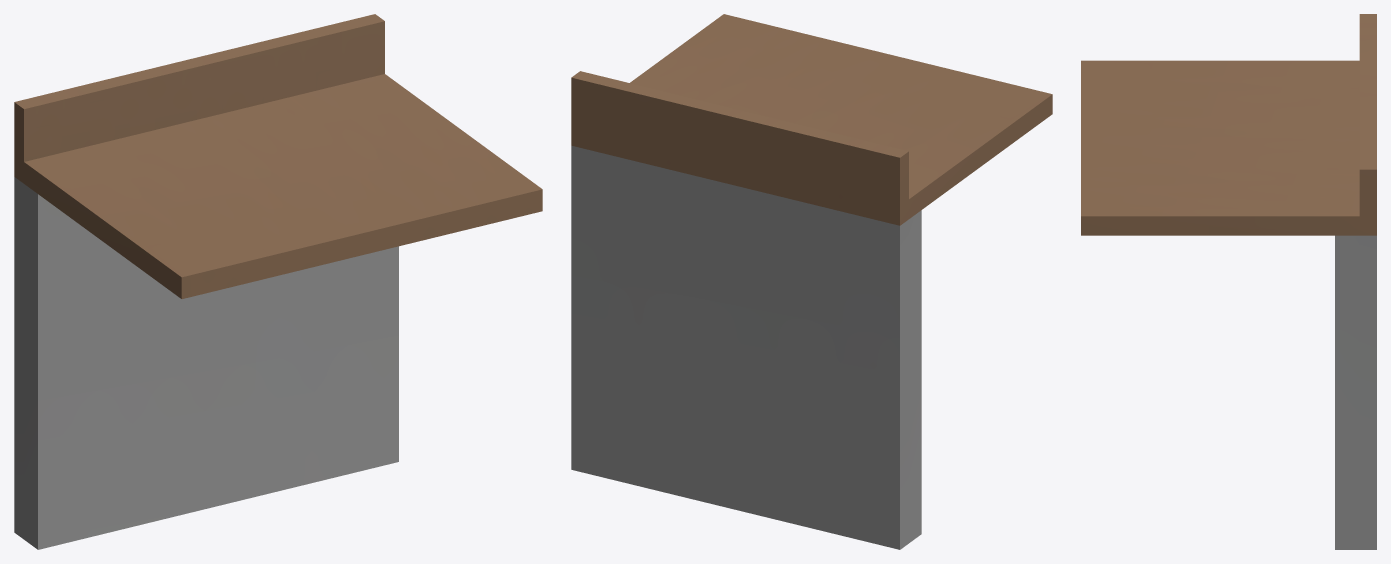
File: KitchenBlock_C.fbx
3 views of the same model, side by side, from view 1: azimuth 30°, elevation 25°; view 2: azimuth 150°, elevation 25°; view 3: azimuth 270°, elevation 25° (orthographic). The views are drawn at different scales.
Parts seen in each view (by area): view 1: Kit_1_Block_C; view 2: Kit_1_Block_C; view 3: Kit_1_Block_C.
Part boxes in pixels (bbox=[...]): Kit_1_Block_C: bbox=[14, 14, 542, 549]; Kit_1_Block_C: bbox=[571, 14, 1052, 549]; Kit_1_Block_C: bbox=[1081, 14, 1376, 549].
Bounding box in the file's own units: 82.46 × 93.97 × 66.27.
